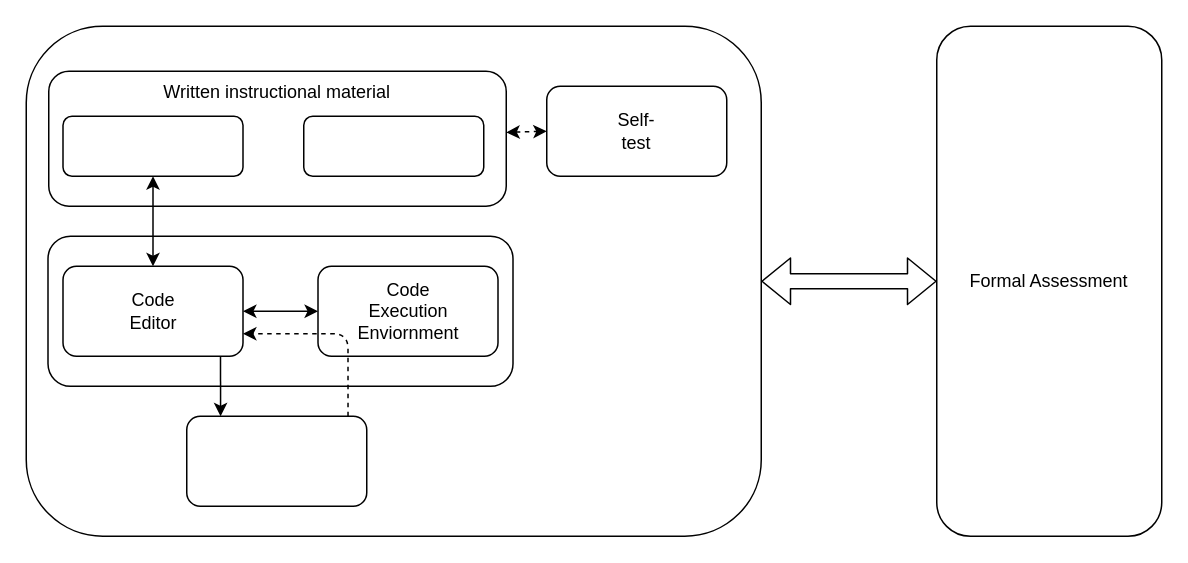
Image size: 1188x563. Some labels were removed from this diagram. Here are the shapes that lost their labels. From the top down, the box of each, then its label:
(62, 115, 243, 176): Code
(302, 115, 484, 176): Text
(185, 415, 367, 506): Code test
